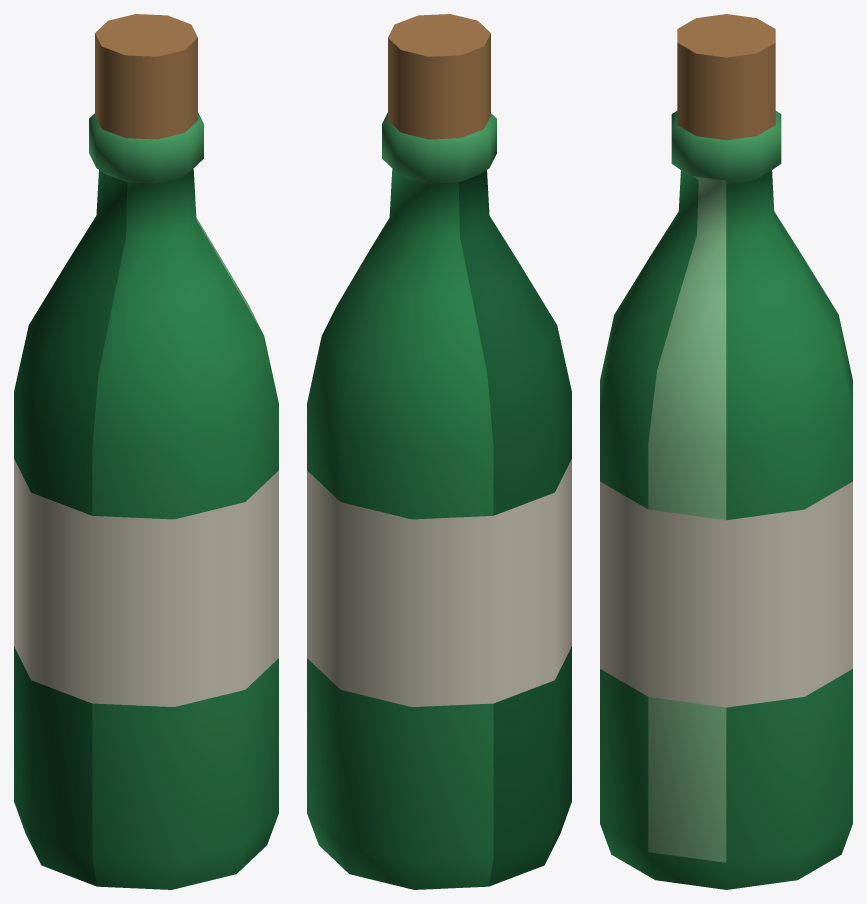
File: bottle.glb
3 renders of one model, left to right at view 1: azimuth 30°, elevation 25°; view 2: azimuth 150°, elevation 25°; view 3: azimuth 270°, elevation 25°, orthographic.
Parts seen in each view (by area): view 1: Bottle; view 2: Bottle; view 3: Bottle.
Part boxes in pixels (x1,y1,x2,y2): Bottle: (14,14,278,889); Bottle: (307,14,571,889); Bottle: (600,14,852,889).
Bounding box in the file's own units: 0.09 × 0.3 × 0.0856.
